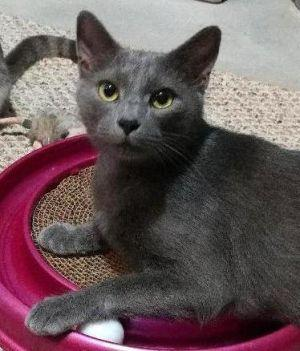rblue: (70, 9, 225, 169)
